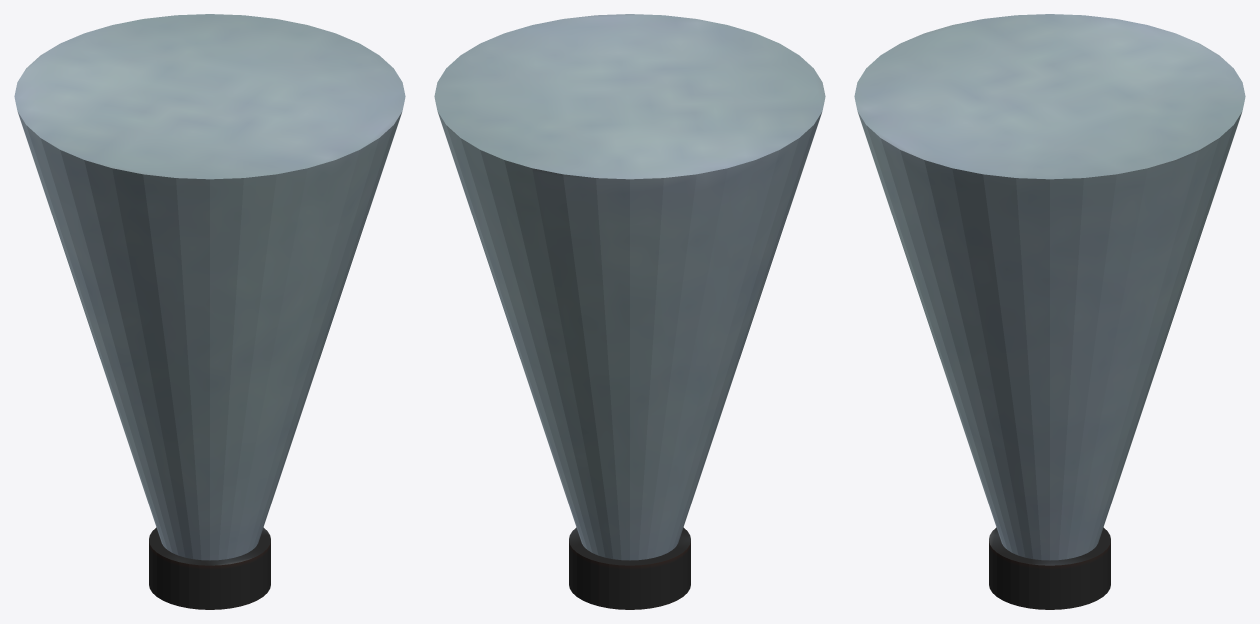
The model's file is tube_top.fbx.
The picture shows the model from 3 angles, left to right: view 1: azimuth 30°, elevation 25°; view 2: azimuth 150°, elevation 25°; view 3: azimuth 270°, elevation 25°; orthographic projection.
Visible parts, largest first — view 1: tube_top; view 2: tube_top; view 3: tube_top.
Boxes of the visible parts, left/top/right/bottom form: tube_top: left=14, top=14, right=405, bottom=609; tube_top: left=434, top=14, right=825, bottom=609; tube_top: left=854, top=14, right=1245, bottom=609.
Size of the model in its own units: 80 by 110 by 80.
